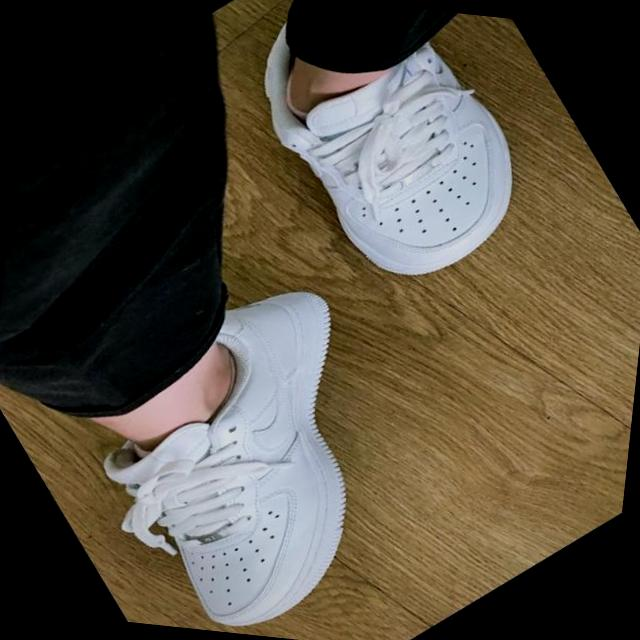nike_original_airforce: (29, 236, 481, 640), (203, 0, 576, 324)
